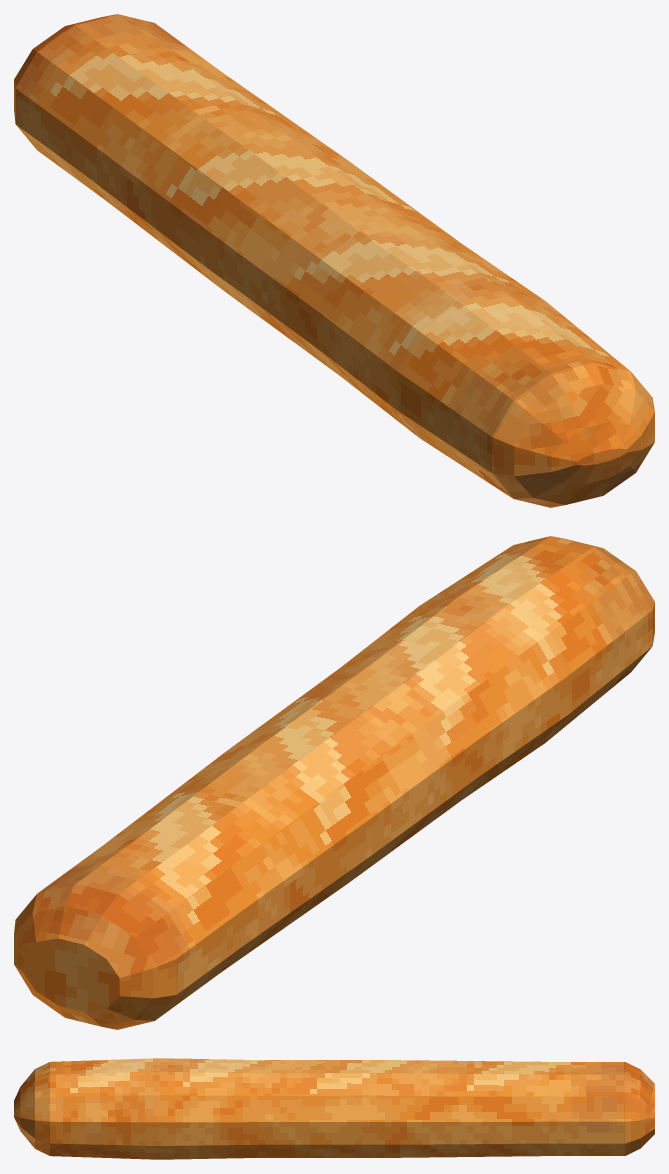
File: baguette.gltf
The picture shows the model from 3 angles, top to bottom: view 1: azimuth 30°, elevation 25°; view 2: azimuth 150°, elevation 25°; view 3: azimuth 270°, elevation 25°; orthographic projection. The views are drawn at different scales.
Parts seen in each view (by area): view 1: cylinder; view 2: cylinder; view 3: cylinder.
Part boxes in pixels (box(x1,y1,x2,y2)): cylinder: box(14, 14, 654, 507); cylinder: box(14, 536, 654, 1029); cylinder: box(14, 1058, 654, 1159).
Size of the model in its own units: 0.296 by 0.2405 by 1.59.
Materials: 1 (1 with a texture image).
